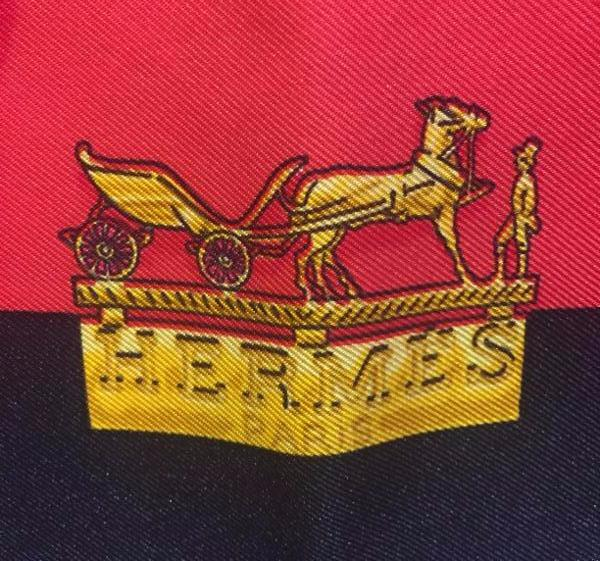HERMES: (65, 82, 545, 459)
